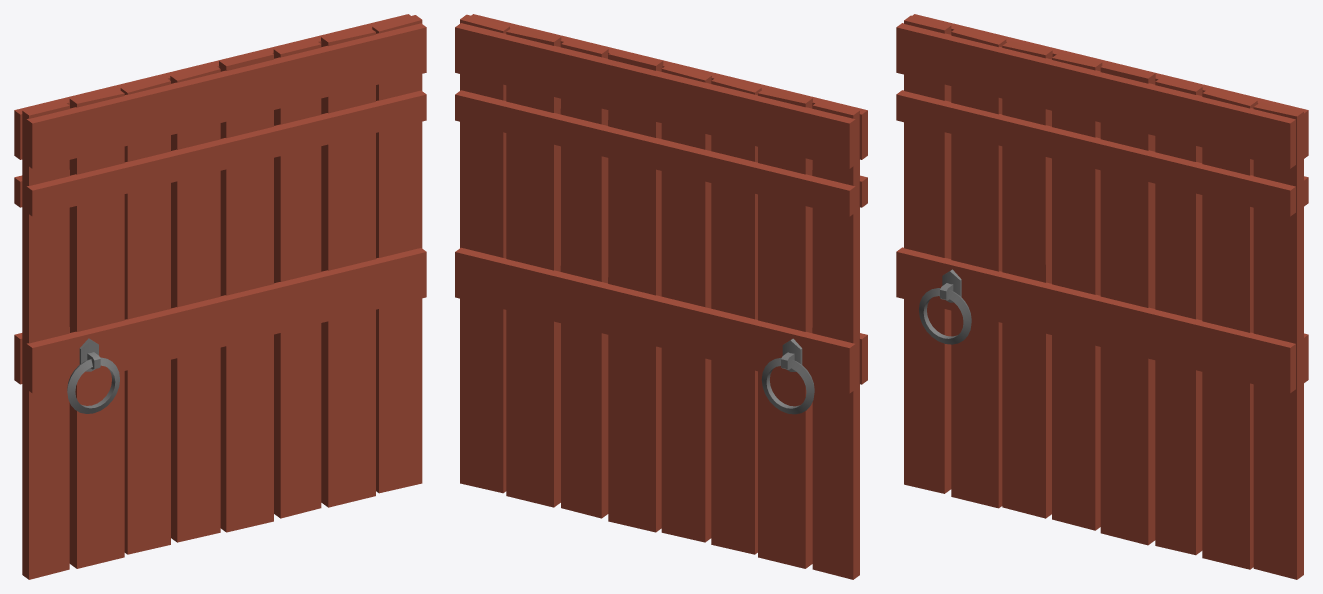
The model's file is SM_door_wooden_03.fbx.
3 renders of one model, left to right at view 1: azimuth 30°, elevation 25°; view 2: azimuth 150°, elevation 25°; view 3: azimuth 330°, elevation 25°, orthographic.
Visible parts, largest first — view 1: Box584; view 2: Box584; view 3: Box584.
Boxes of the visible parts, x1,y1,x2,y2 form: Box584: (14,14,426,579); Box584: (455,14,867,579); Box584: (896,14,1308,579).
Size of the model in its own units: 84.36 by 95.19 by 13.53.
